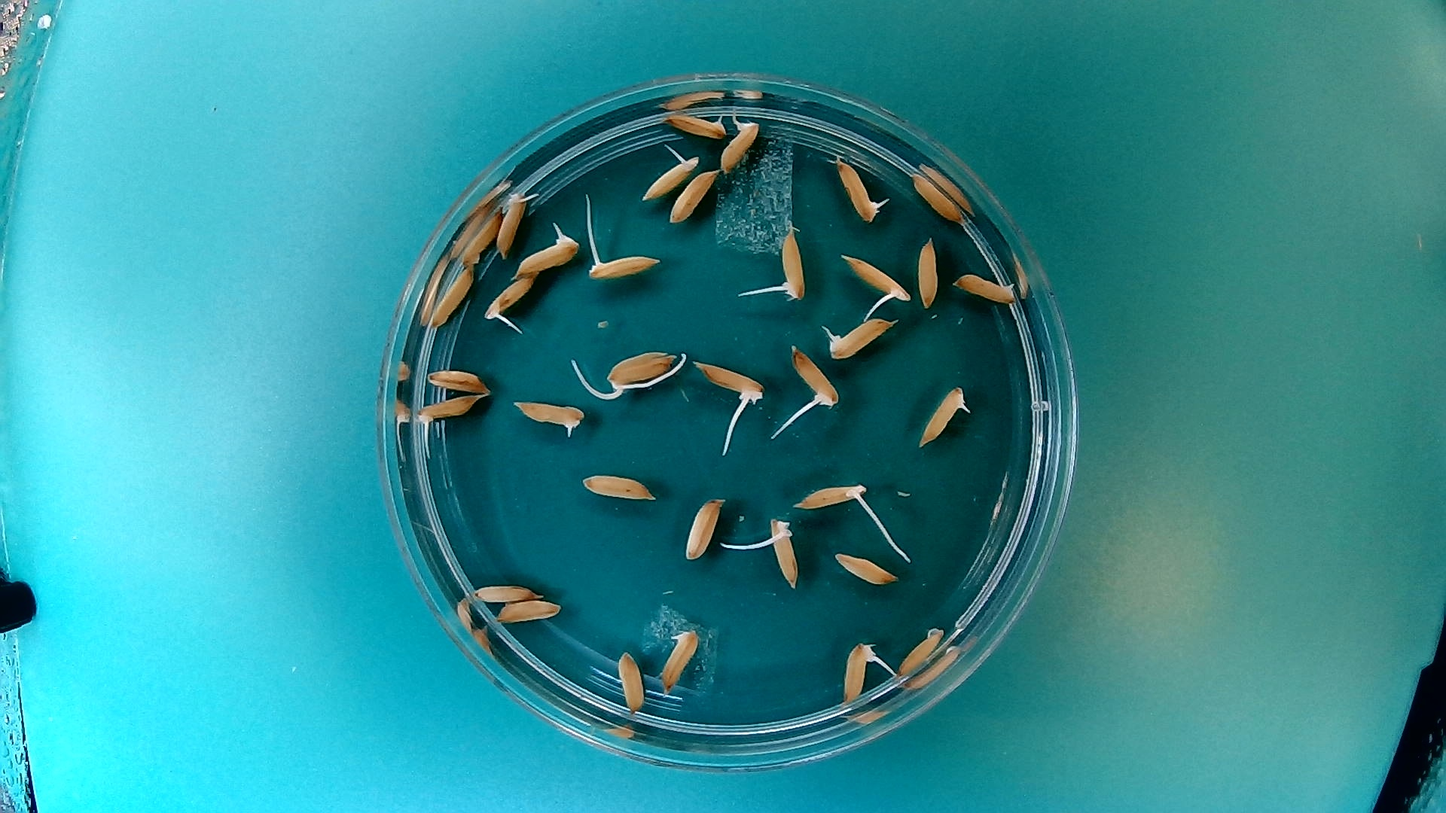no: (908, 170, 966, 224), (668, 167, 720, 224), (429, 264, 476, 327), (683, 495, 726, 562), (896, 624, 944, 681), (579, 468, 656, 503), (421, 360, 491, 397), (460, 209, 502, 267), (832, 549, 897, 585), (615, 648, 648, 714), (496, 596, 563, 626), (914, 233, 940, 308), (469, 581, 538, 606)
yes: (412, 390, 482, 463), (839, 251, 911, 309), (916, 379, 974, 449), (691, 356, 767, 407), (606, 344, 688, 391), (513, 221, 583, 276), (788, 342, 840, 413), (822, 314, 898, 361), (509, 395, 587, 439), (834, 157, 883, 223), (761, 514, 801, 592), (658, 626, 702, 695), (494, 187, 535, 260), (838, 638, 883, 704), (483, 271, 538, 325), (771, 224, 808, 302), (716, 114, 763, 175), (640, 153, 697, 202), (953, 266, 1019, 305), (792, 477, 866, 510), (584, 251, 660, 282), (661, 107, 730, 141)
